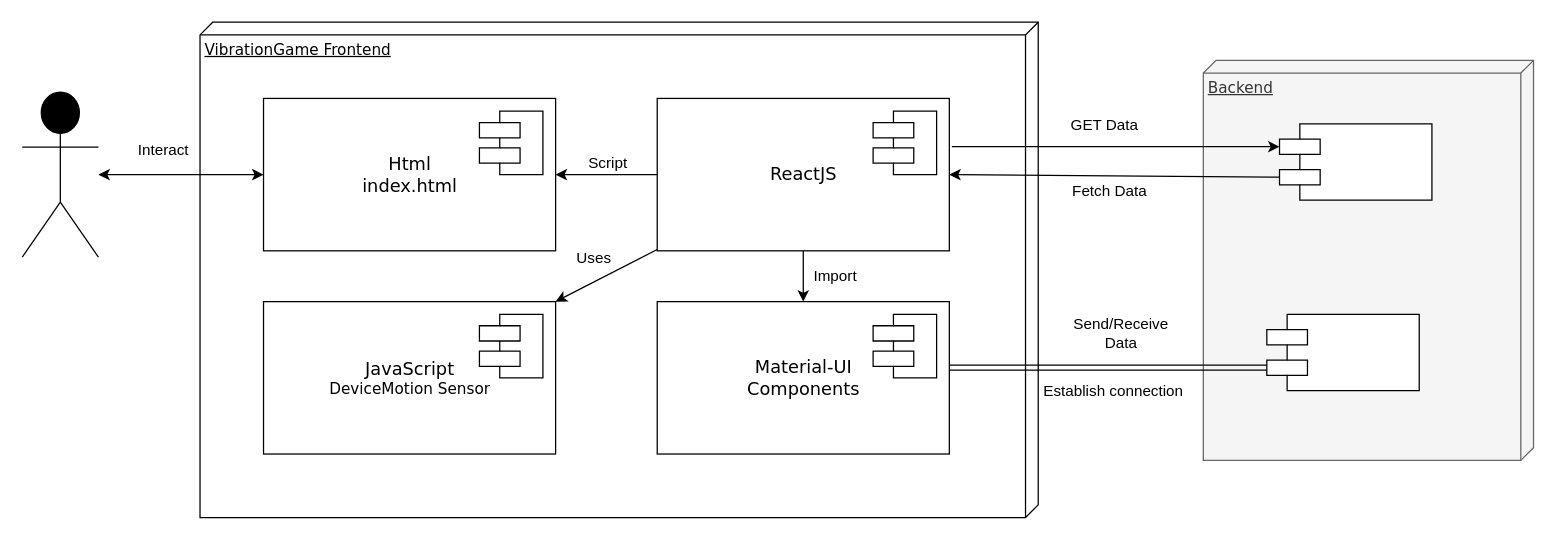
Image size: 1556x540. Some labels were removed from this diagram. Here are the shapes that lost their labels. From the top down, the centre of each, then its label:
At pixel 59 174: "User".
At pixel 1355 161: "Java Spring API Rest".
At pixel 1342 352: "Java Spring Websockets".
